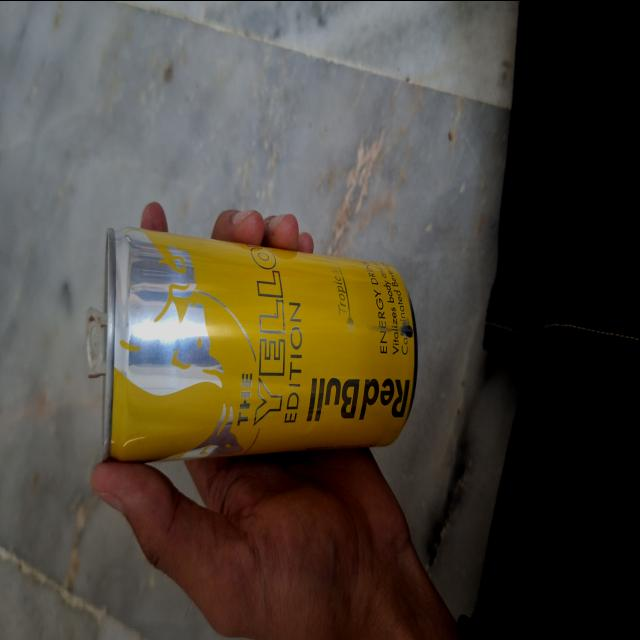Redbull Yellow Edition: (98, 225, 418, 462)
